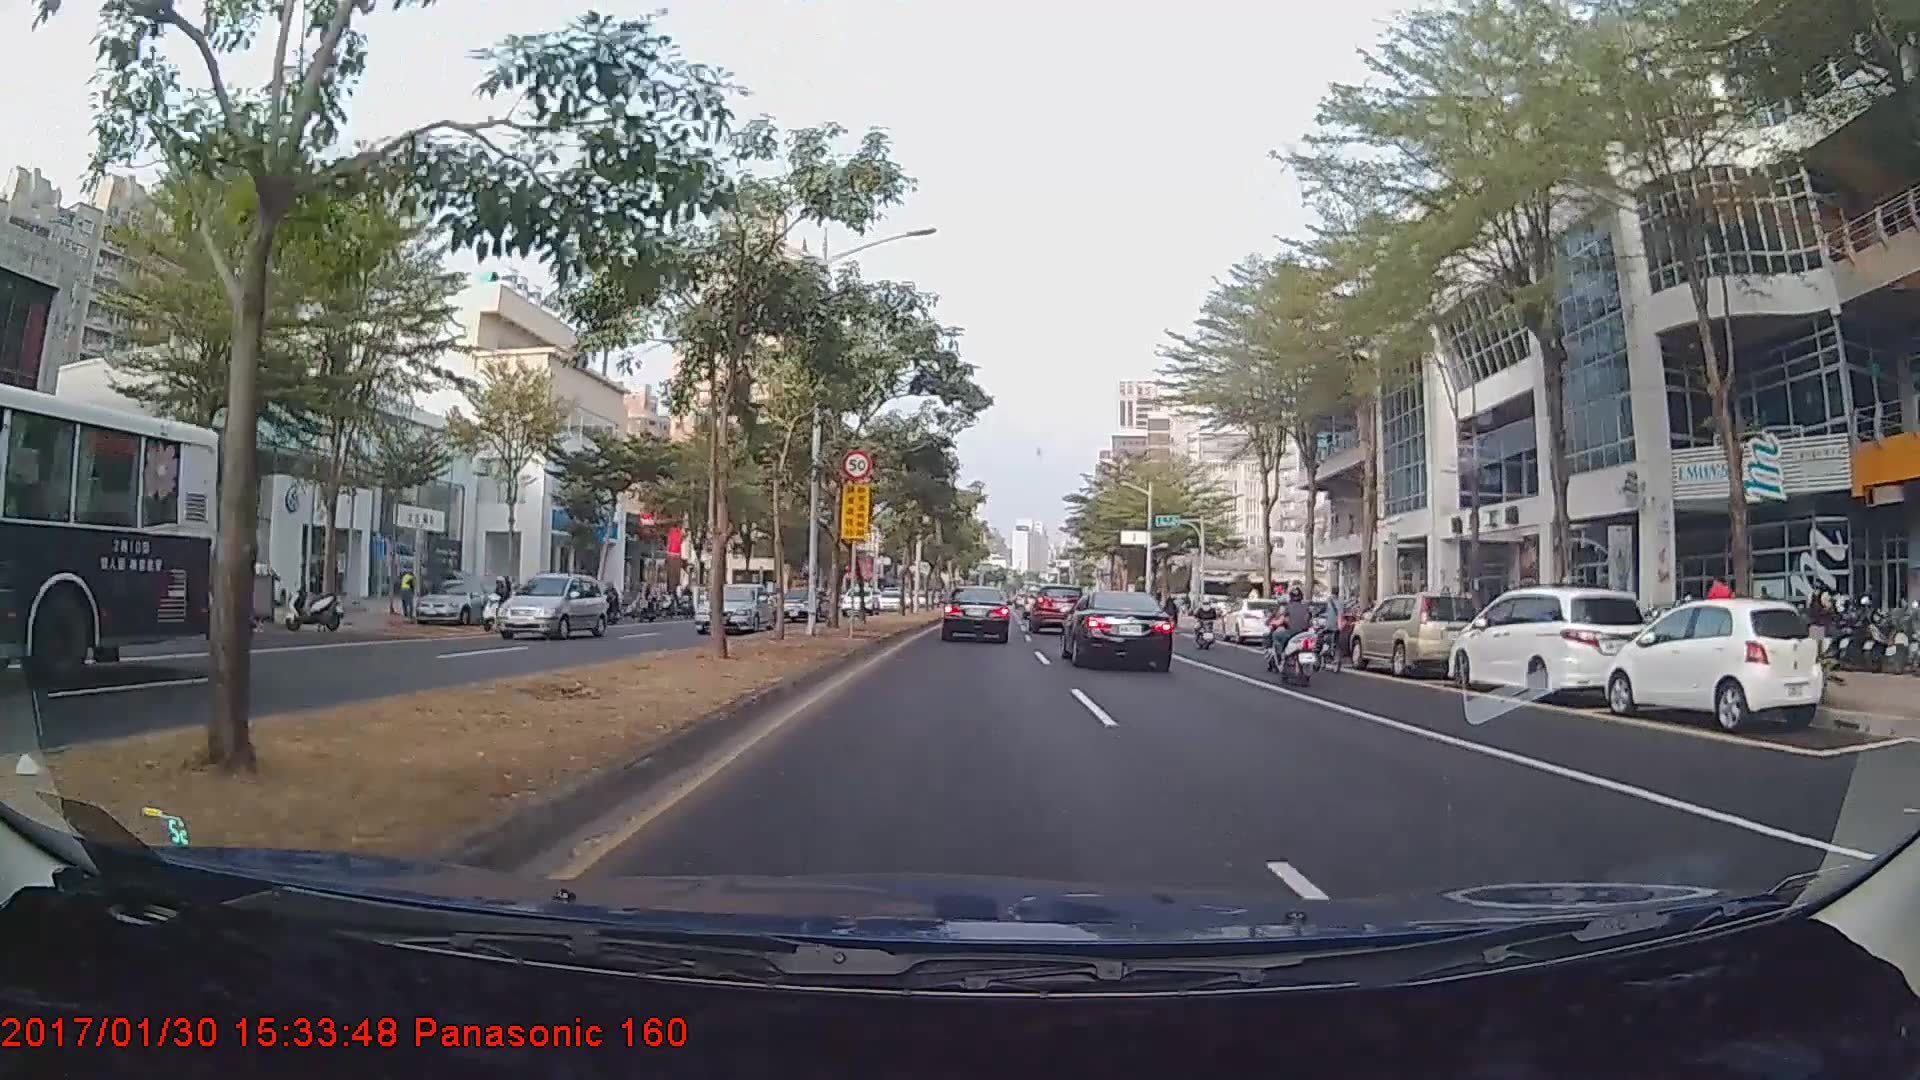rider: (1261, 582, 1334, 686), (483, 571, 524, 633), (1189, 593, 1222, 648)
vehicle: (0, 378, 217, 688), (1607, 596, 1826, 729), (1446, 587, 1650, 698), (1349, 592, 1485, 674), (1064, 587, 1174, 671), (490, 572, 609, 643), (692, 581, 774, 635), (941, 584, 1012, 643), (413, 579, 500, 623), (1225, 595, 1289, 646), (1029, 584, 1079, 632), (772, 585, 829, 622), (840, 588, 878, 614)
